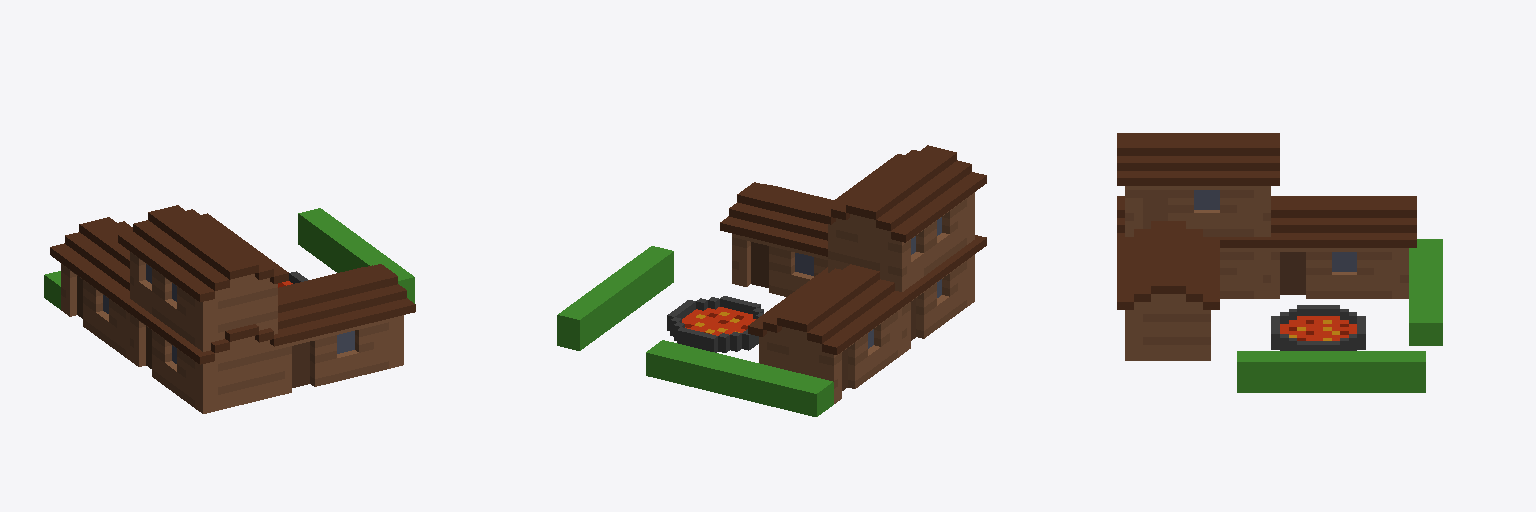
The picture shows the model from 3 angles: view 1: azimuth 30°, elevation 25°; view 2: azimuth 150°, elevation 25°; view 3: azimuth 270°, elevation 25°; orthographic projection.
Parts seen in each view (by area): view 1: object 1; view 2: object 1; view 3: object 1.
Boxes of the visible parts, box(x1,y1,x2,y2) form: object 1: box(44, 205, 415, 413); object 1: box(557, 145, 986, 416); object 1: box(1117, 133, 1442, 392).
Size of the model in its own units: 3.7 by 1.8 by 3.8.
1 materials, 1 textured.